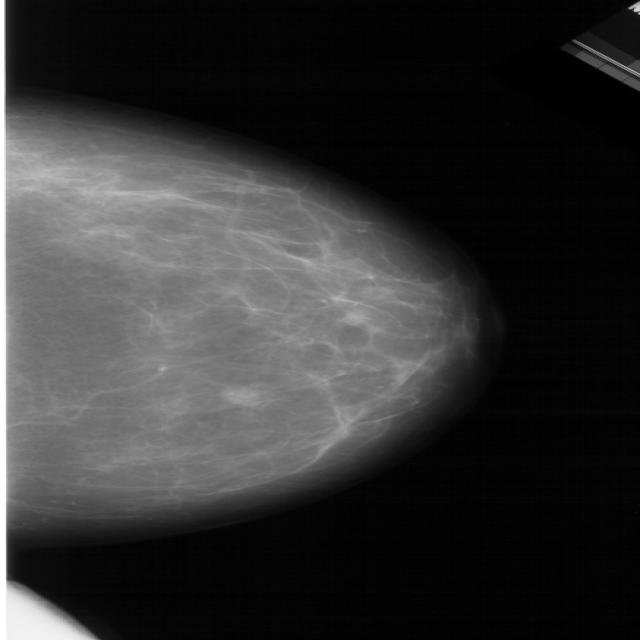tumour: (218, 383, 258, 405)
